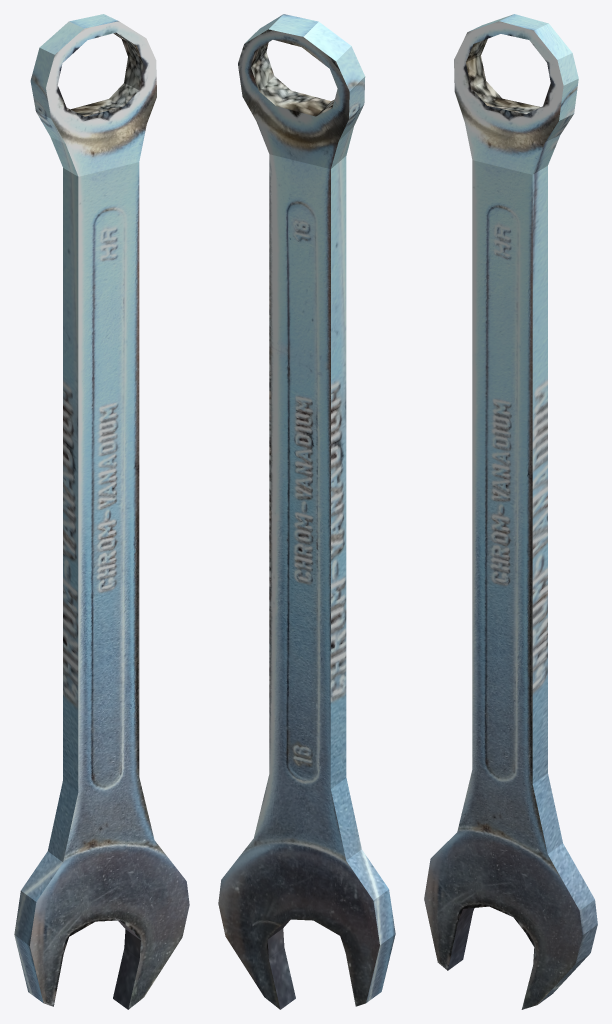
The model's file is wrench.obj.
The picture shows the model from 3 angles, left to right: view 1: azimuth 30°, elevation 25°; view 2: azimuth 150°, elevation 25°; view 3: azimuth 330°, elevation 25°; orthographic projection. The views are drawn at different scales.
Parts seen in each view (by area): view 1: Plane; view 2: Plane; view 3: Plane.
Part boxes in pixels (bbox=[...]): Plane: bbox=[14, 14, 189, 1009]; Plane: bbox=[218, 14, 395, 1009]; Plane: bbox=[424, 14, 597, 1009].
Size of the model in its own units: 3.34 by 19.61 by 0.9439.
Materials: 1 (1 with a texture image).
